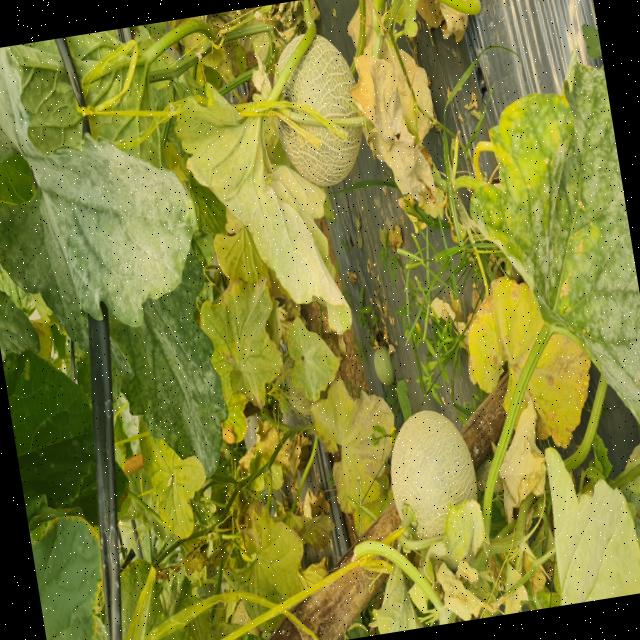melon: (391, 409, 478, 538), (282, 34, 358, 118), (276, 117, 362, 187), (277, 35, 302, 72), (416, 453, 418, 458)
